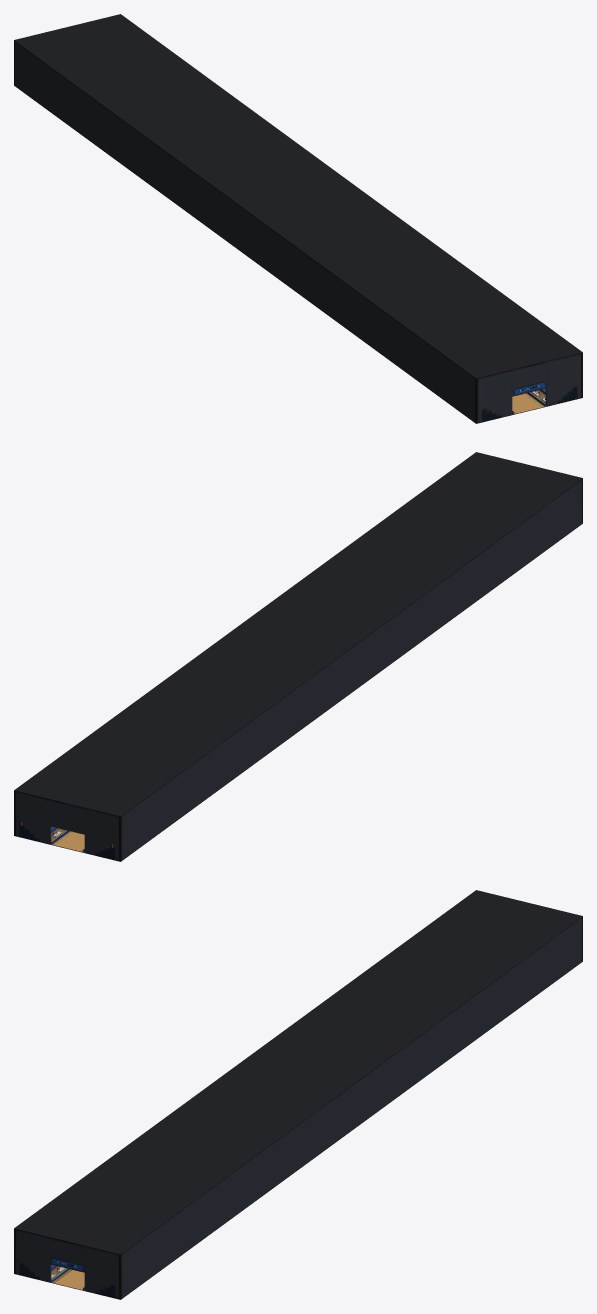
Rendered from recuento.glb.
3 renders of one model, top to bottom at view 1: azimuth 30°, elevation 25°; view 2: azimuth 150°, elevation 25°; view 3: azimuth 330°, elevation 25°, orthographic.
Visible parts, largest first — view 1: recuento; view 2: recuento; view 3: recuento.
Boxes of the visible parts, x1=… form: recuento: x1=14, y1=14, x2=582, y2=423; recuento: x1=14, y1=452, x2=582, y2=861; recuento: x1=14, y1=890, x2=582, y2=1299.
Bounding box in the file's own units: 56 × 22.82 × 421.
Materials: 1 (1 with a texture image).
